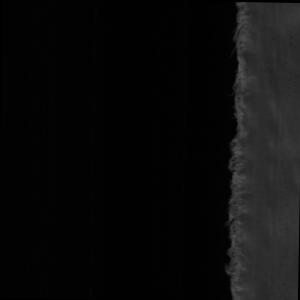Damage: (221, 2, 261, 300)
